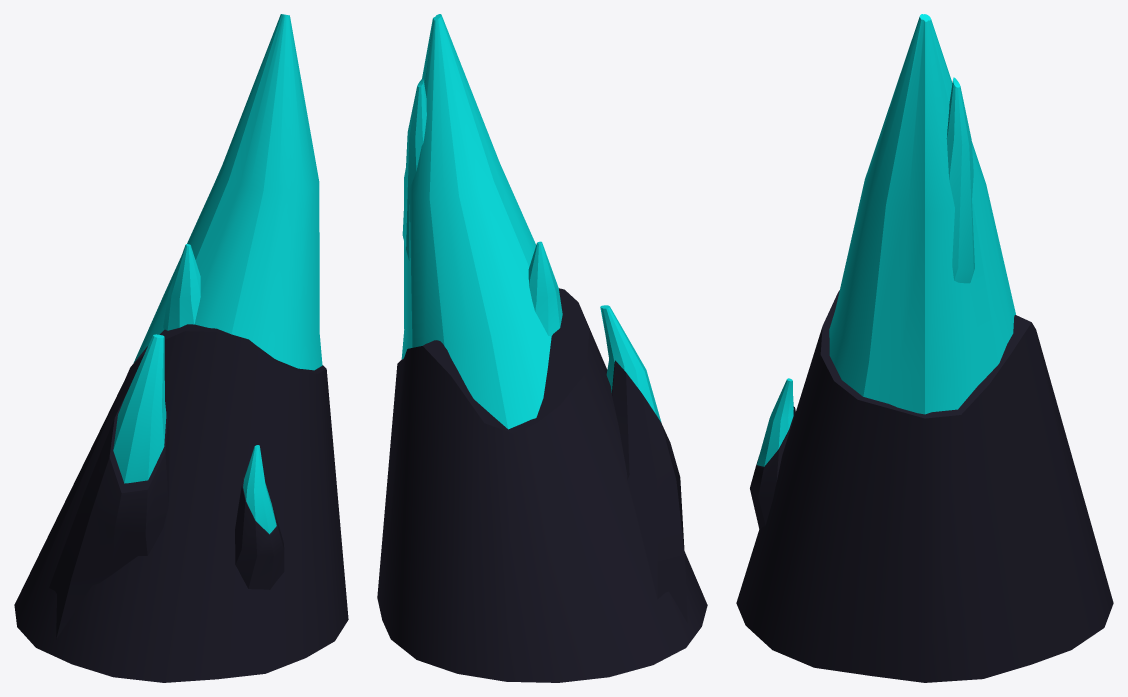
Rendered from big_crystal.fbx.
3 renders of one model, left to right at view 1: azimuth 30°, elevation 25°; view 2: azimuth 150°, elevation 25°; view 3: azimuth 270°, elevation 25°, orthographic. The views are drawn at different scales.
Parts seen in each view (by area): view 1: big_crystal; view 2: big_crystal; view 3: big_crystal.
Part boxes in pixels (x1=…): big_crystal: x1=14, y1=14, x2=348, y2=682; big_crystal: x1=377, y1=14, x2=707, y2=682; big_crystal: x1=736, y1=14, x2=1113, y2=682.
Bounding box in the file's own units: 1.16 × 2.19 × 1.16.
